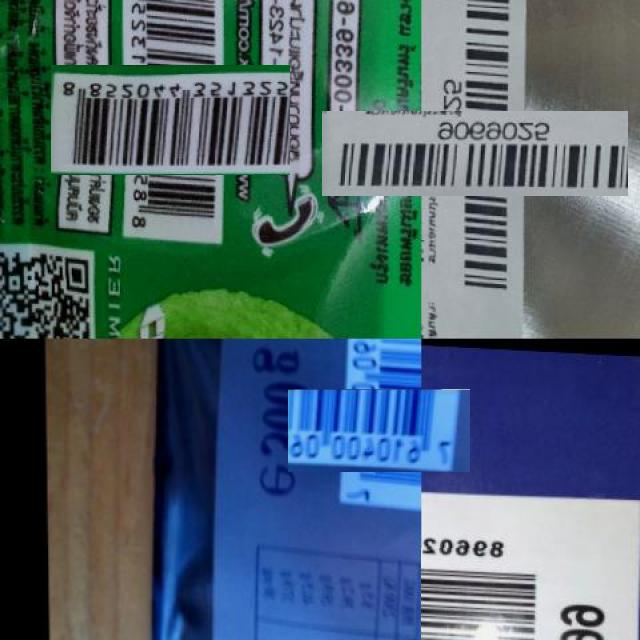Barcode: (376, 56, 573, 251), (82, 32, 258, 208), (313, 363, 446, 497), (422, 548, 550, 640)
